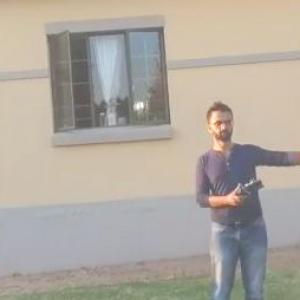follow: (190, 94, 299, 299)
